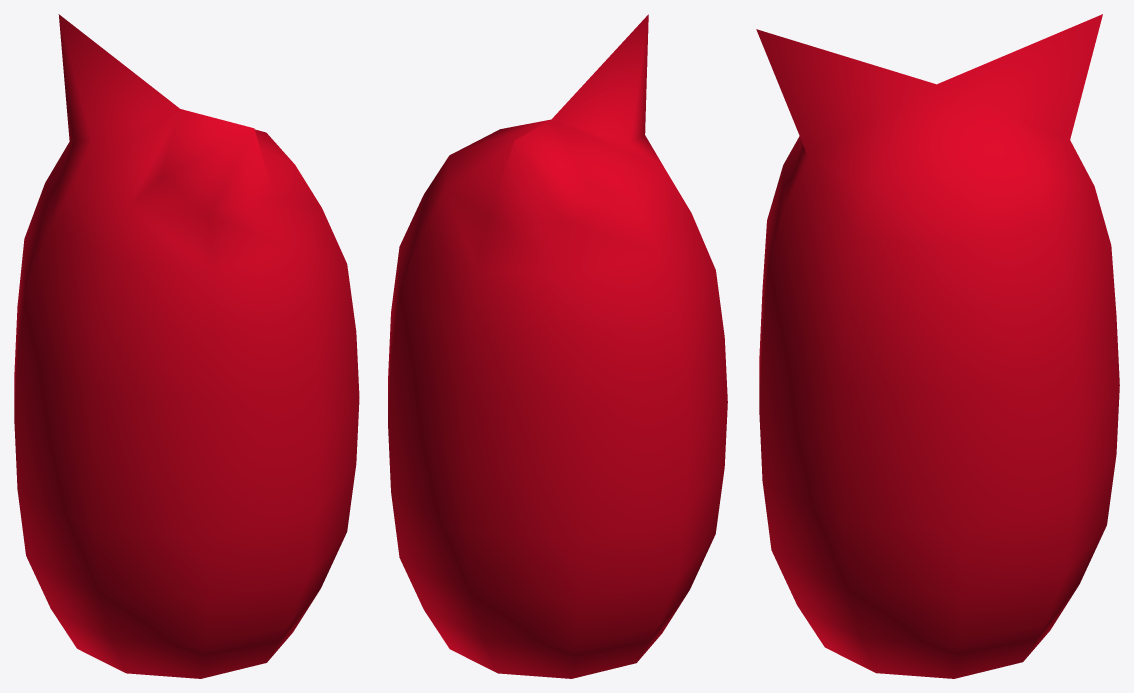
Rendered from Enemyb.fbx.
The picture shows the model from 3 angles, left to right: view 1: azimuth 30°, elevation 25°; view 2: azimuth 150°, elevation 25°; view 3: azimuth 270°, elevation 25°; orthographic projection. The views are drawn at different scales.
Parts seen in each view (by area): view 1: Sphere; view 2: Sphere; view 3: Sphere.
Boxes of the visible parts, x1=… form: Sphere: x1=14, y1=14, x2=359, y2=678; Sphere: x1=388, y1=14, x2=727, y2=678; Sphere: x1=756, y1=14, x2=1119, y2=678.
Bounding box in the file's own units: 1.81 × 3.45 × 1.8.
